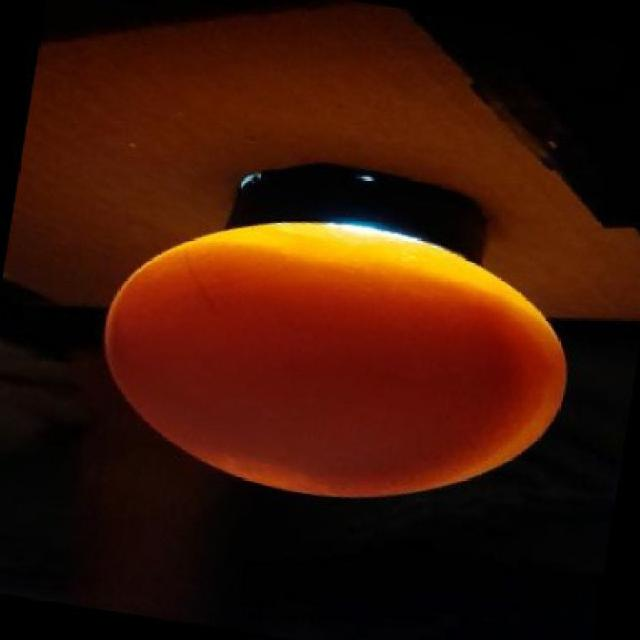Eggs: (102, 221, 567, 498)
